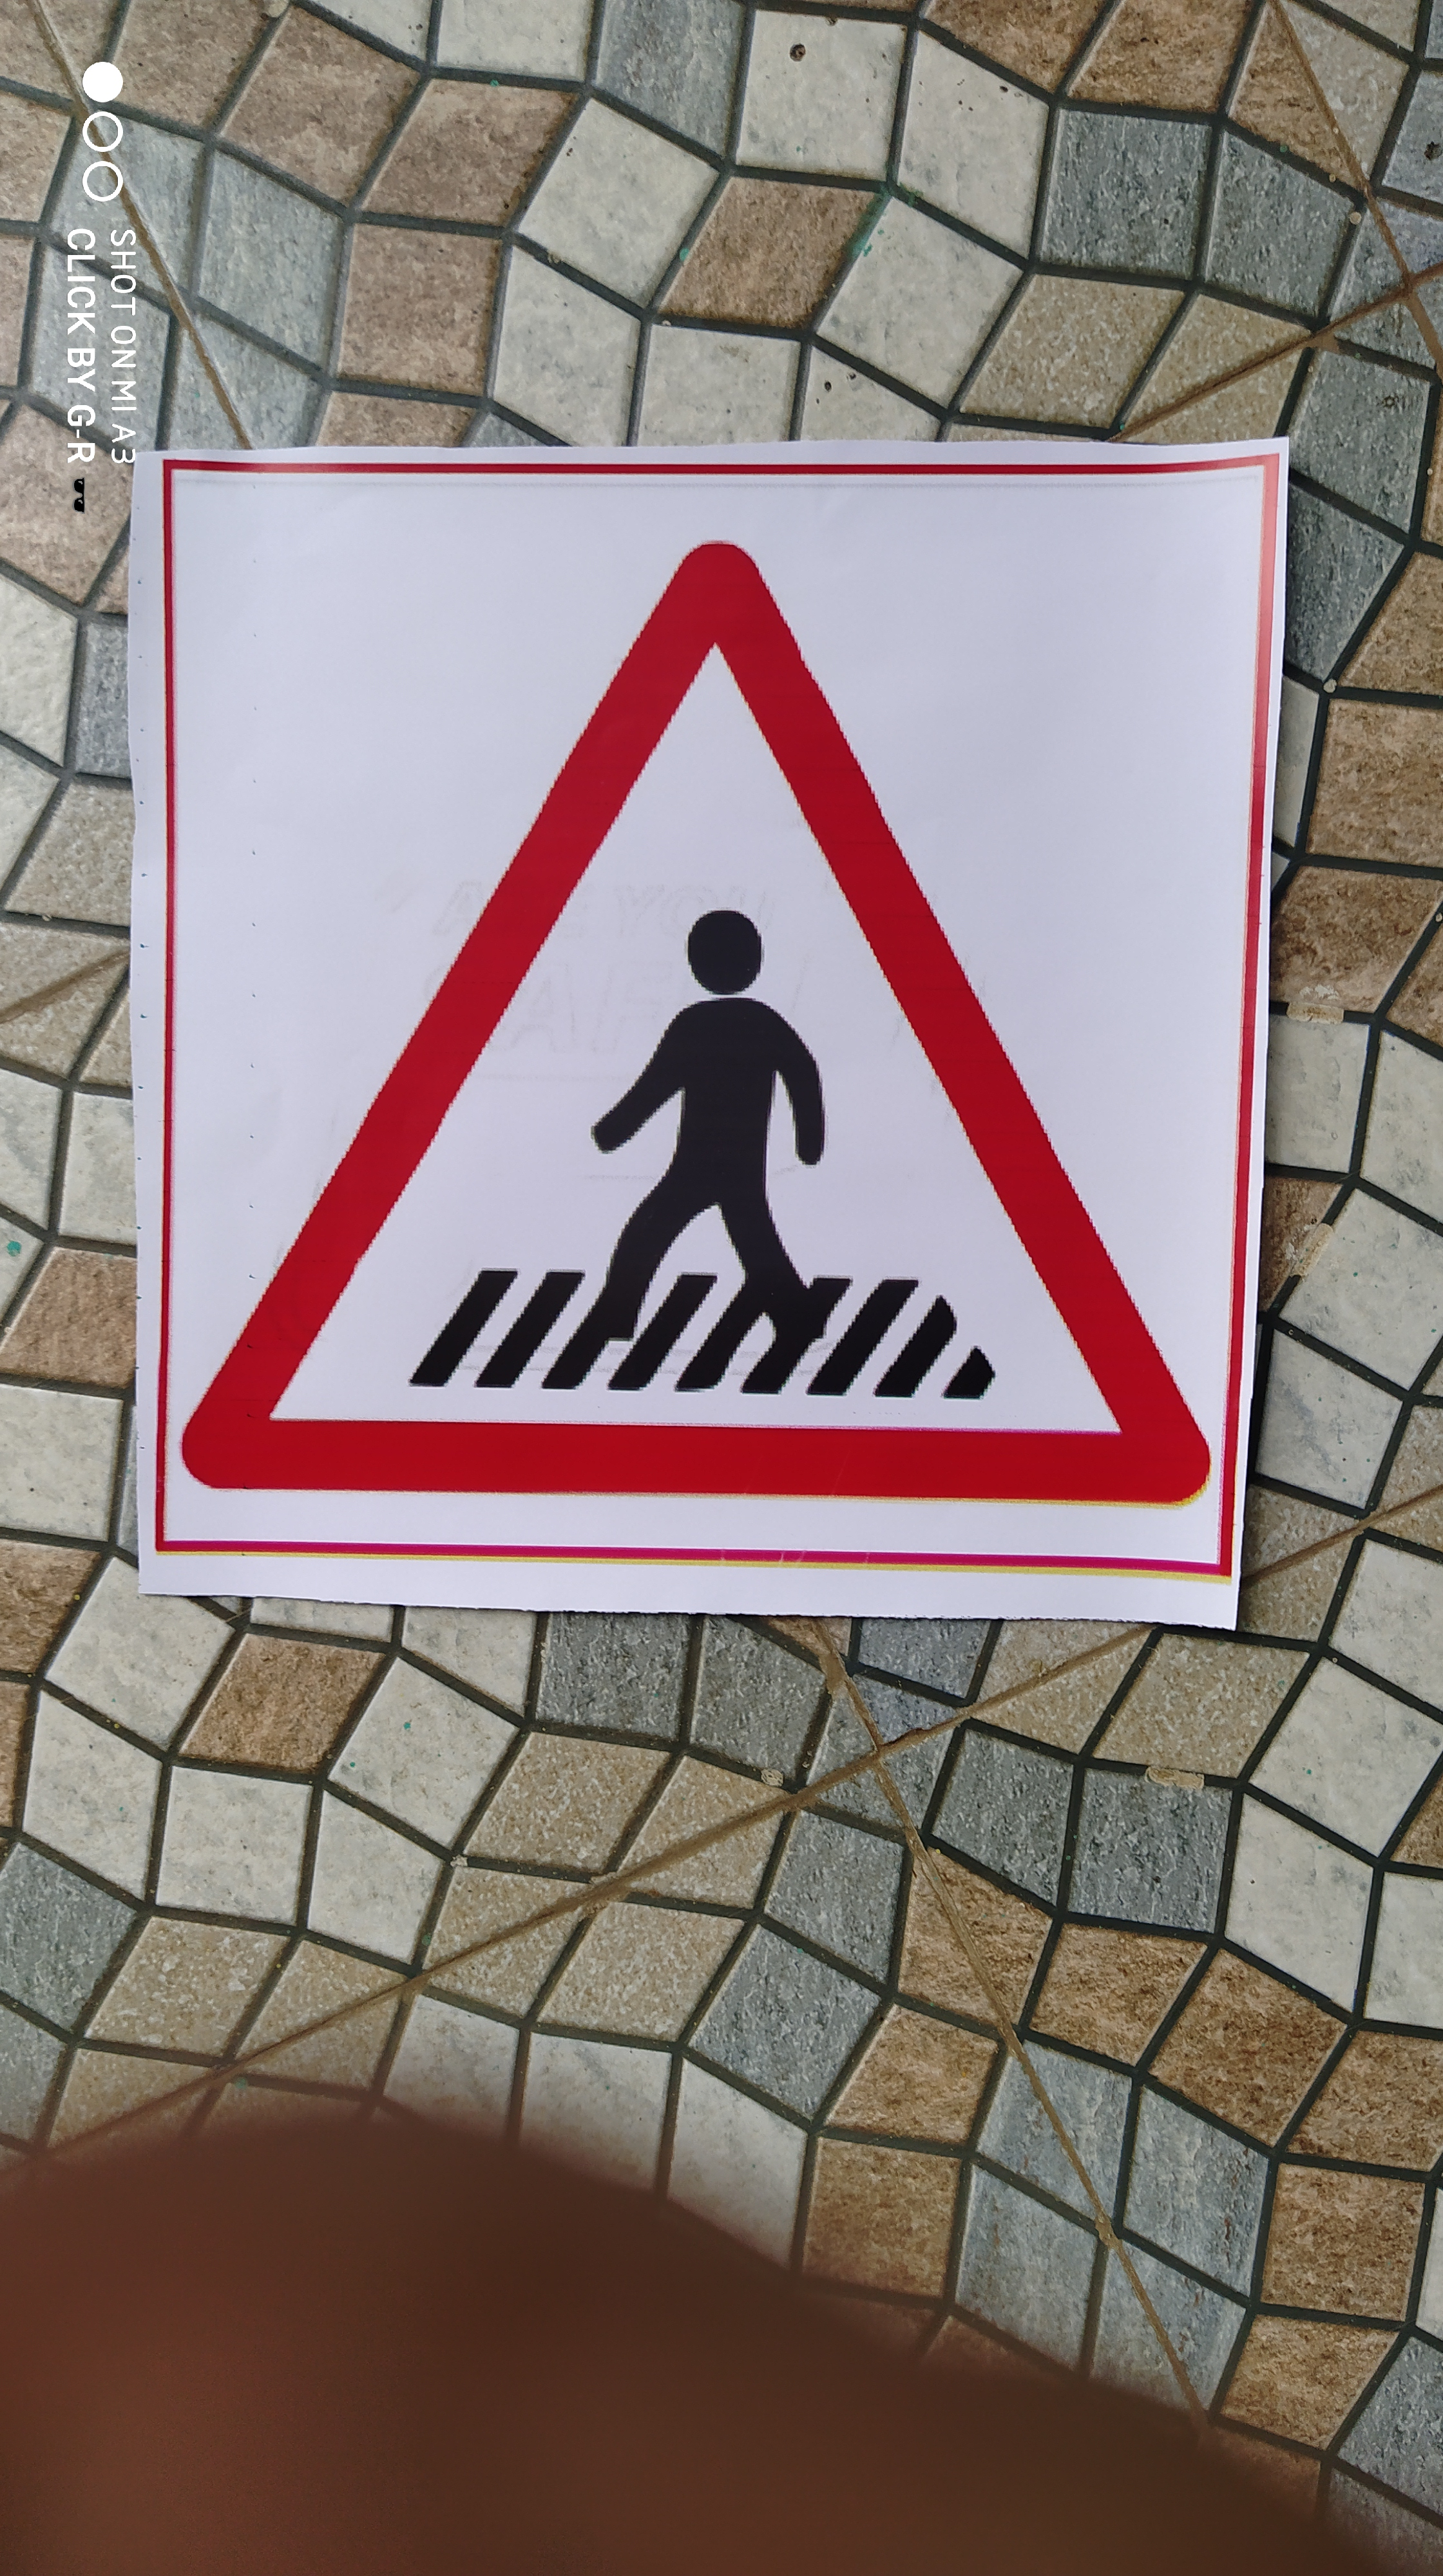pedestrain crossing: (161, 502, 1257, 1622)
